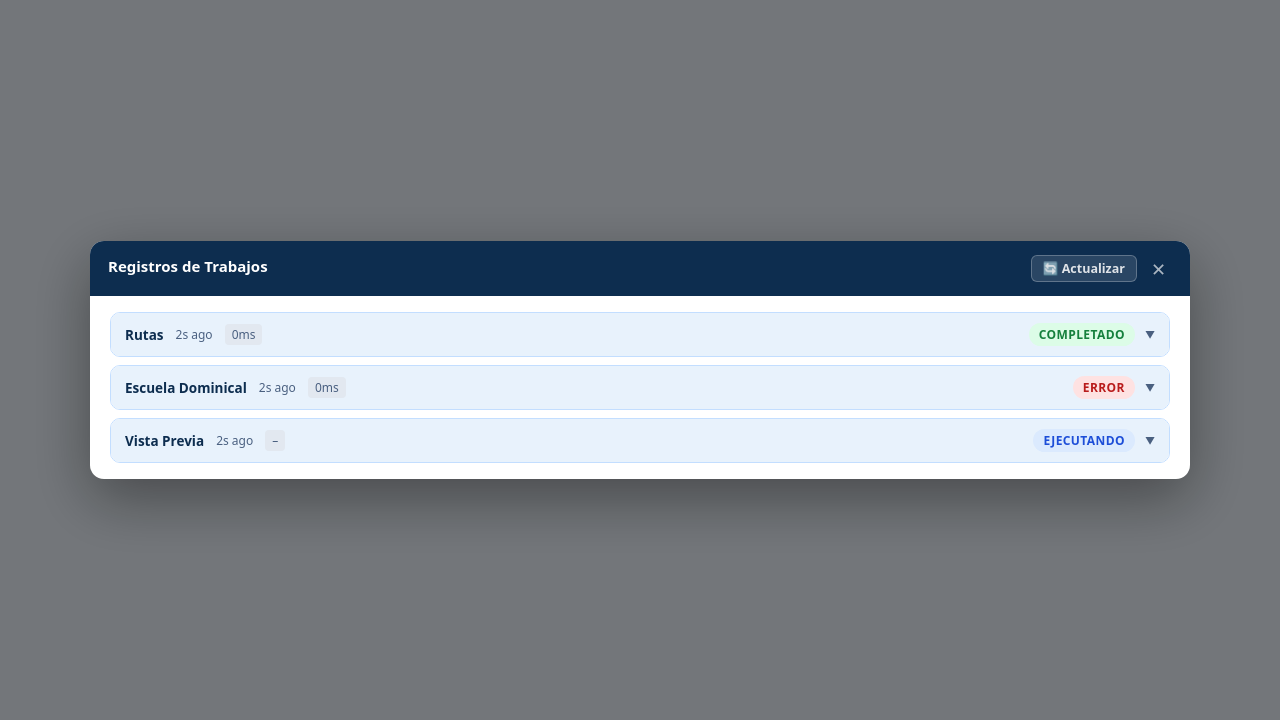
Test: LogsModal › re-fetches jobs when Refresh is clicked
Check: the text "Rutas" is shown, box top-left (125, 326), bottom-right (164, 344)
Click the button "🔄 Actualizar".
click(1084, 268)  # box top-left (1031, 255), bottom-right (1137, 282)
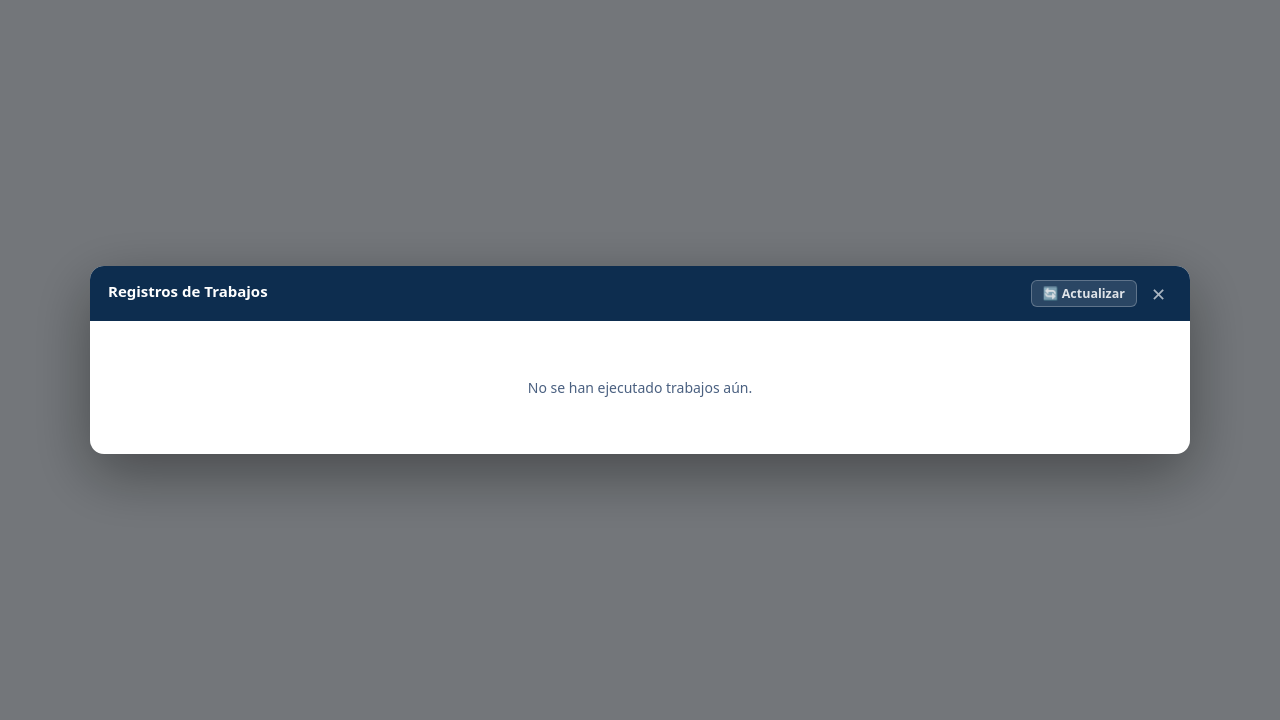
Check: the text "No se han ejecutado trabajos aún." is shown, box top-left (528, 378), bottom-right (752, 397)
